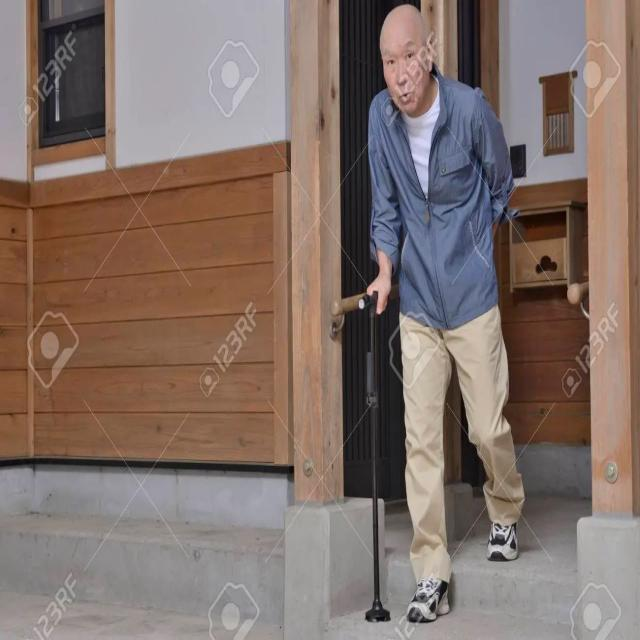idoso em pe: (345, 23, 551, 622)
